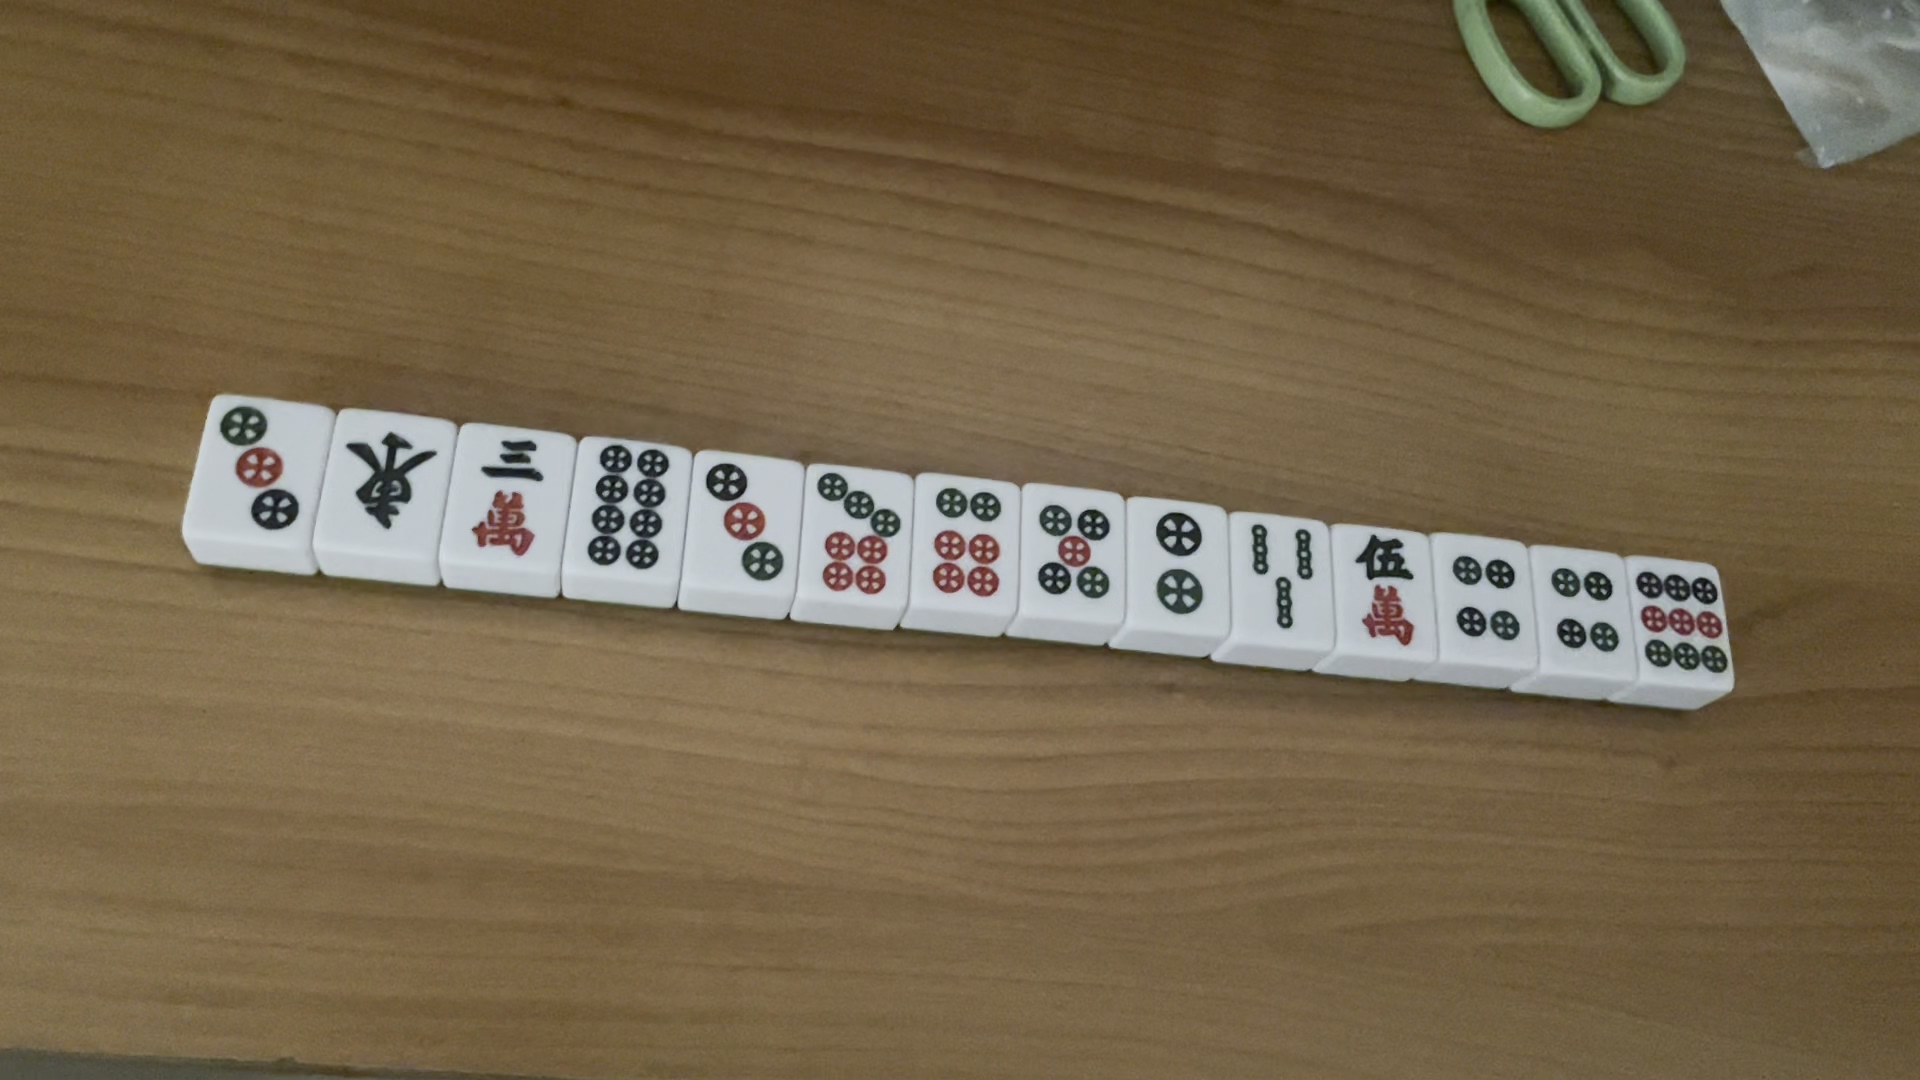b-3: (1244, 521, 1317, 633)
c-3: (462, 434, 549, 559)
c-5: (1352, 530, 1428, 654)
d-2: (1145, 505, 1213, 624)
d-3: (215, 398, 301, 541), (700, 456, 786, 595)
d-4: (1548, 562, 1623, 663), (1448, 547, 1522, 646)
d-5: (1035, 495, 1120, 607)
d-6: (919, 483, 1010, 605)
d-7: (810, 467, 906, 607)
d-8: (578, 440, 671, 572)
d-9: (1633, 568, 1731, 679)
honors-east: (336, 425, 439, 538)
